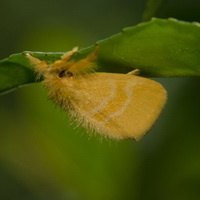insect: (26, 45, 166, 139)
